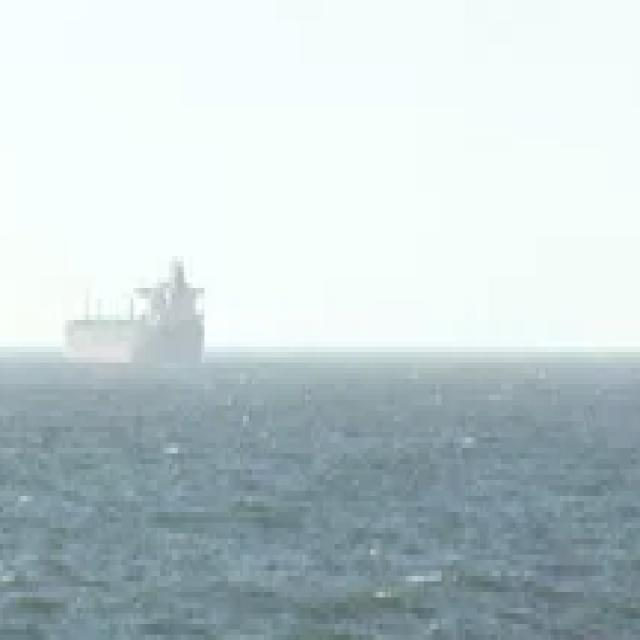cargoship: (62, 250, 219, 372)
